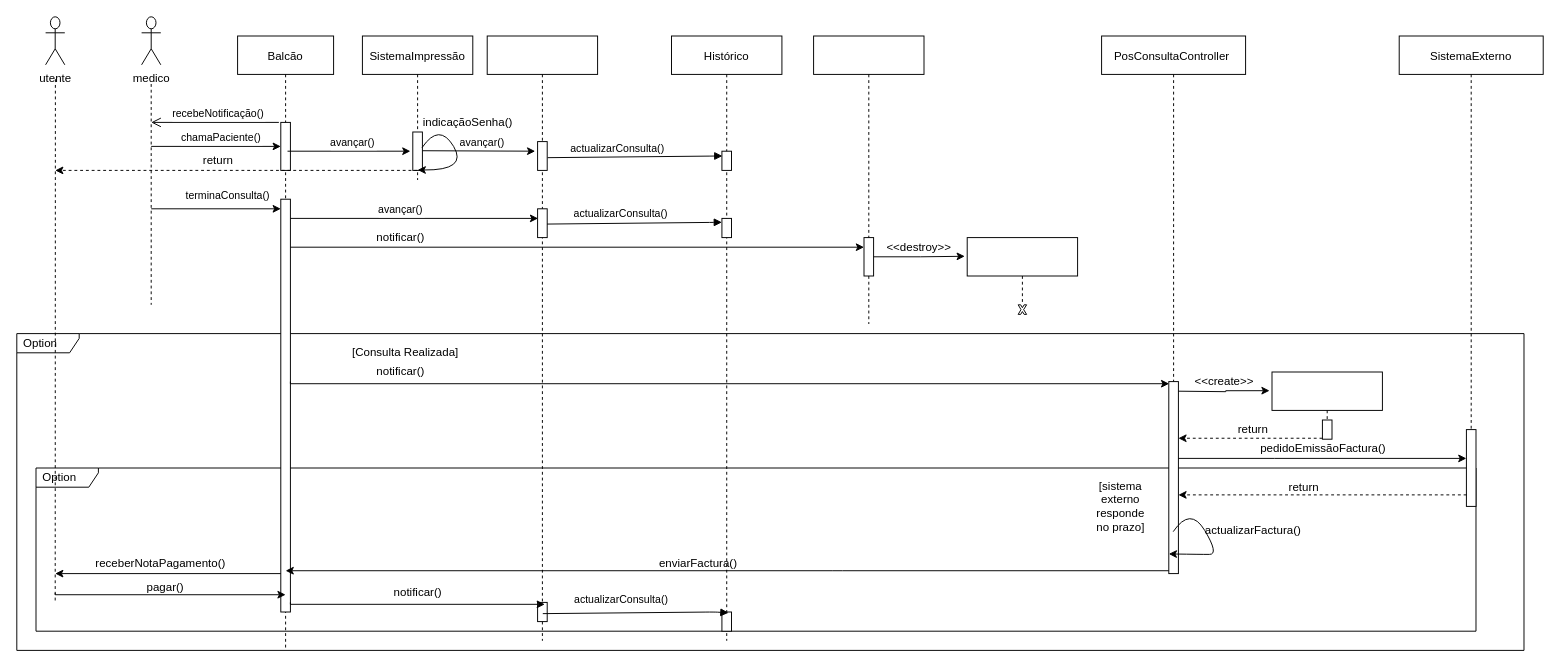
This 1560x667 diagram has some shape labels left out. The box of each missing label's shape, as (x1, y1, x2, y2) in pixels:
Factura: (1271, 371, 1382, 439)
HistoricoController: (486, 35, 598, 641)
Vaga: (966, 237, 1078, 305)
VagasController: (813, 35, 924, 324)
